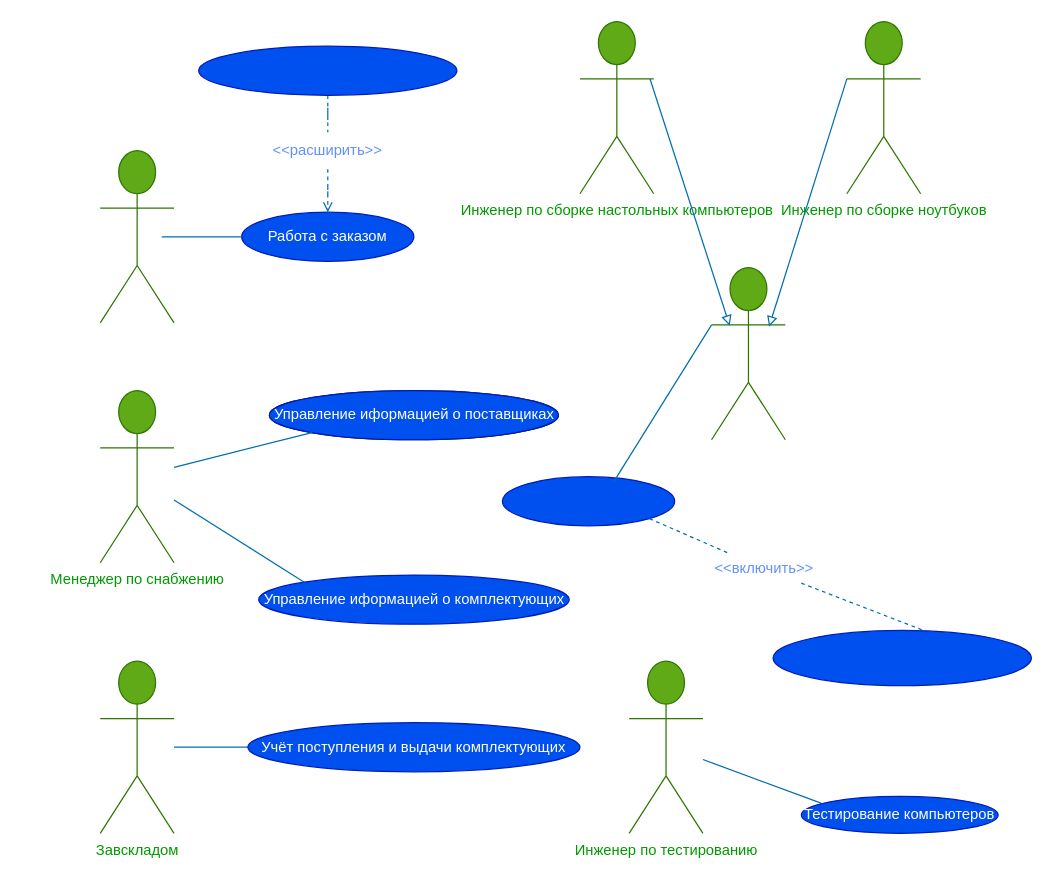
Some shapes in this 1053 by 881 pixel diagram are drawn without their labels. Here are the shapes that lost their labels. From the top down, the centre of each, then its label:
point (327, 70): Управление иформацией о клиенте
point (136, 236): Менеджер по работе с клиентами
point (747, 353): Инженер по сборке
point (588, 500): Сборка компьютеров
point (901, 657): Требование необходимых комплектующих
